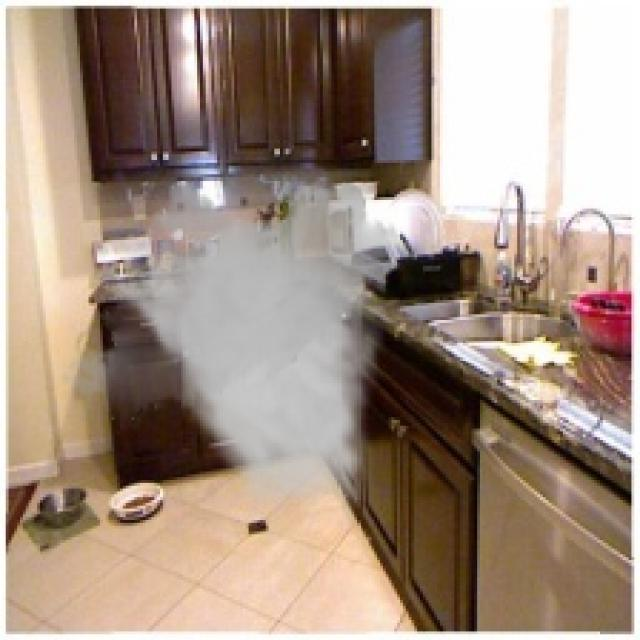Smoke: (59, 171, 412, 523)
